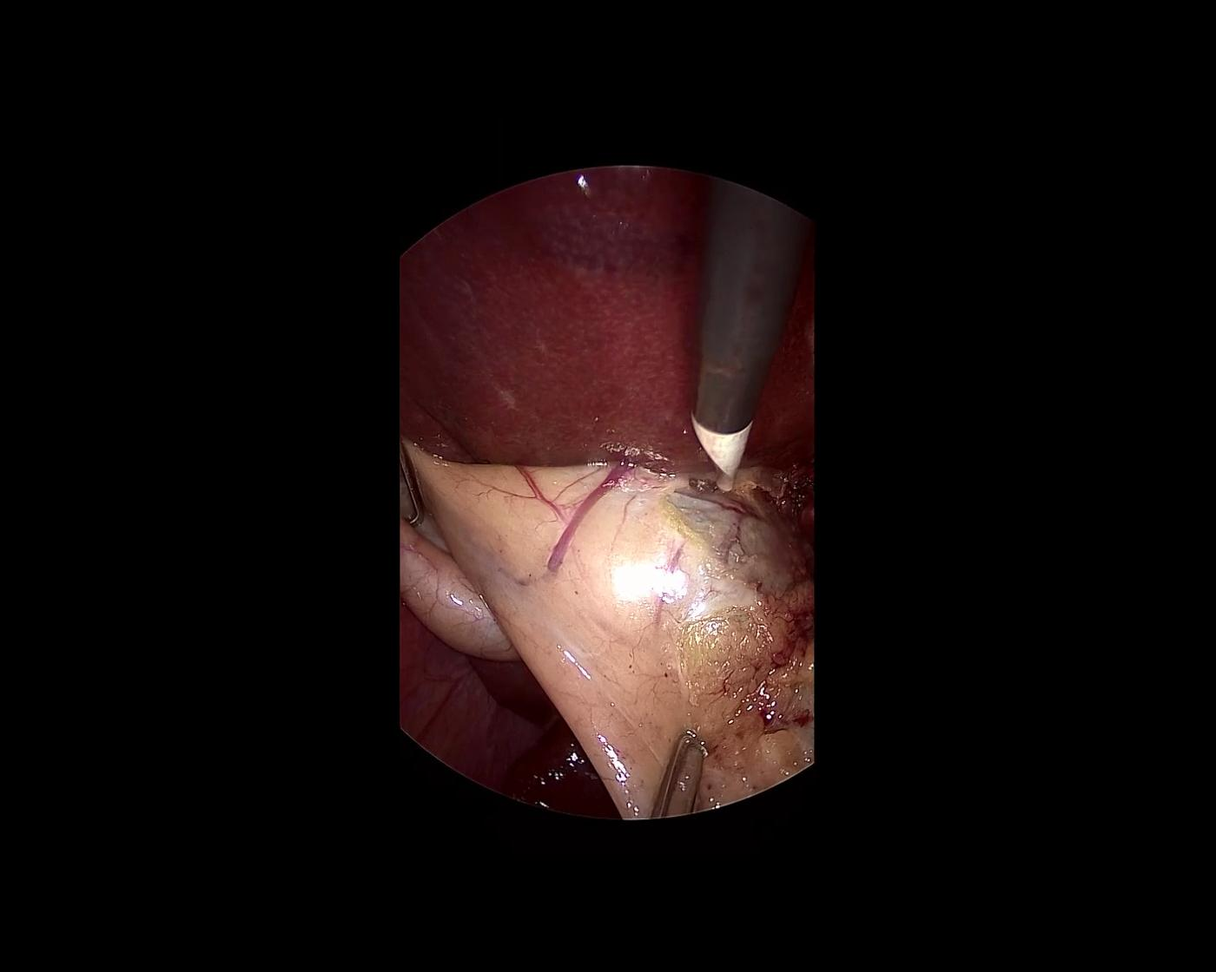Cautery: (619, 176, 820, 493)
Forceps: (653, 726, 713, 825)
Gallbladder: (401, 435, 815, 818)
Liver: (401, 169, 815, 474), (344, 601, 663, 846)
